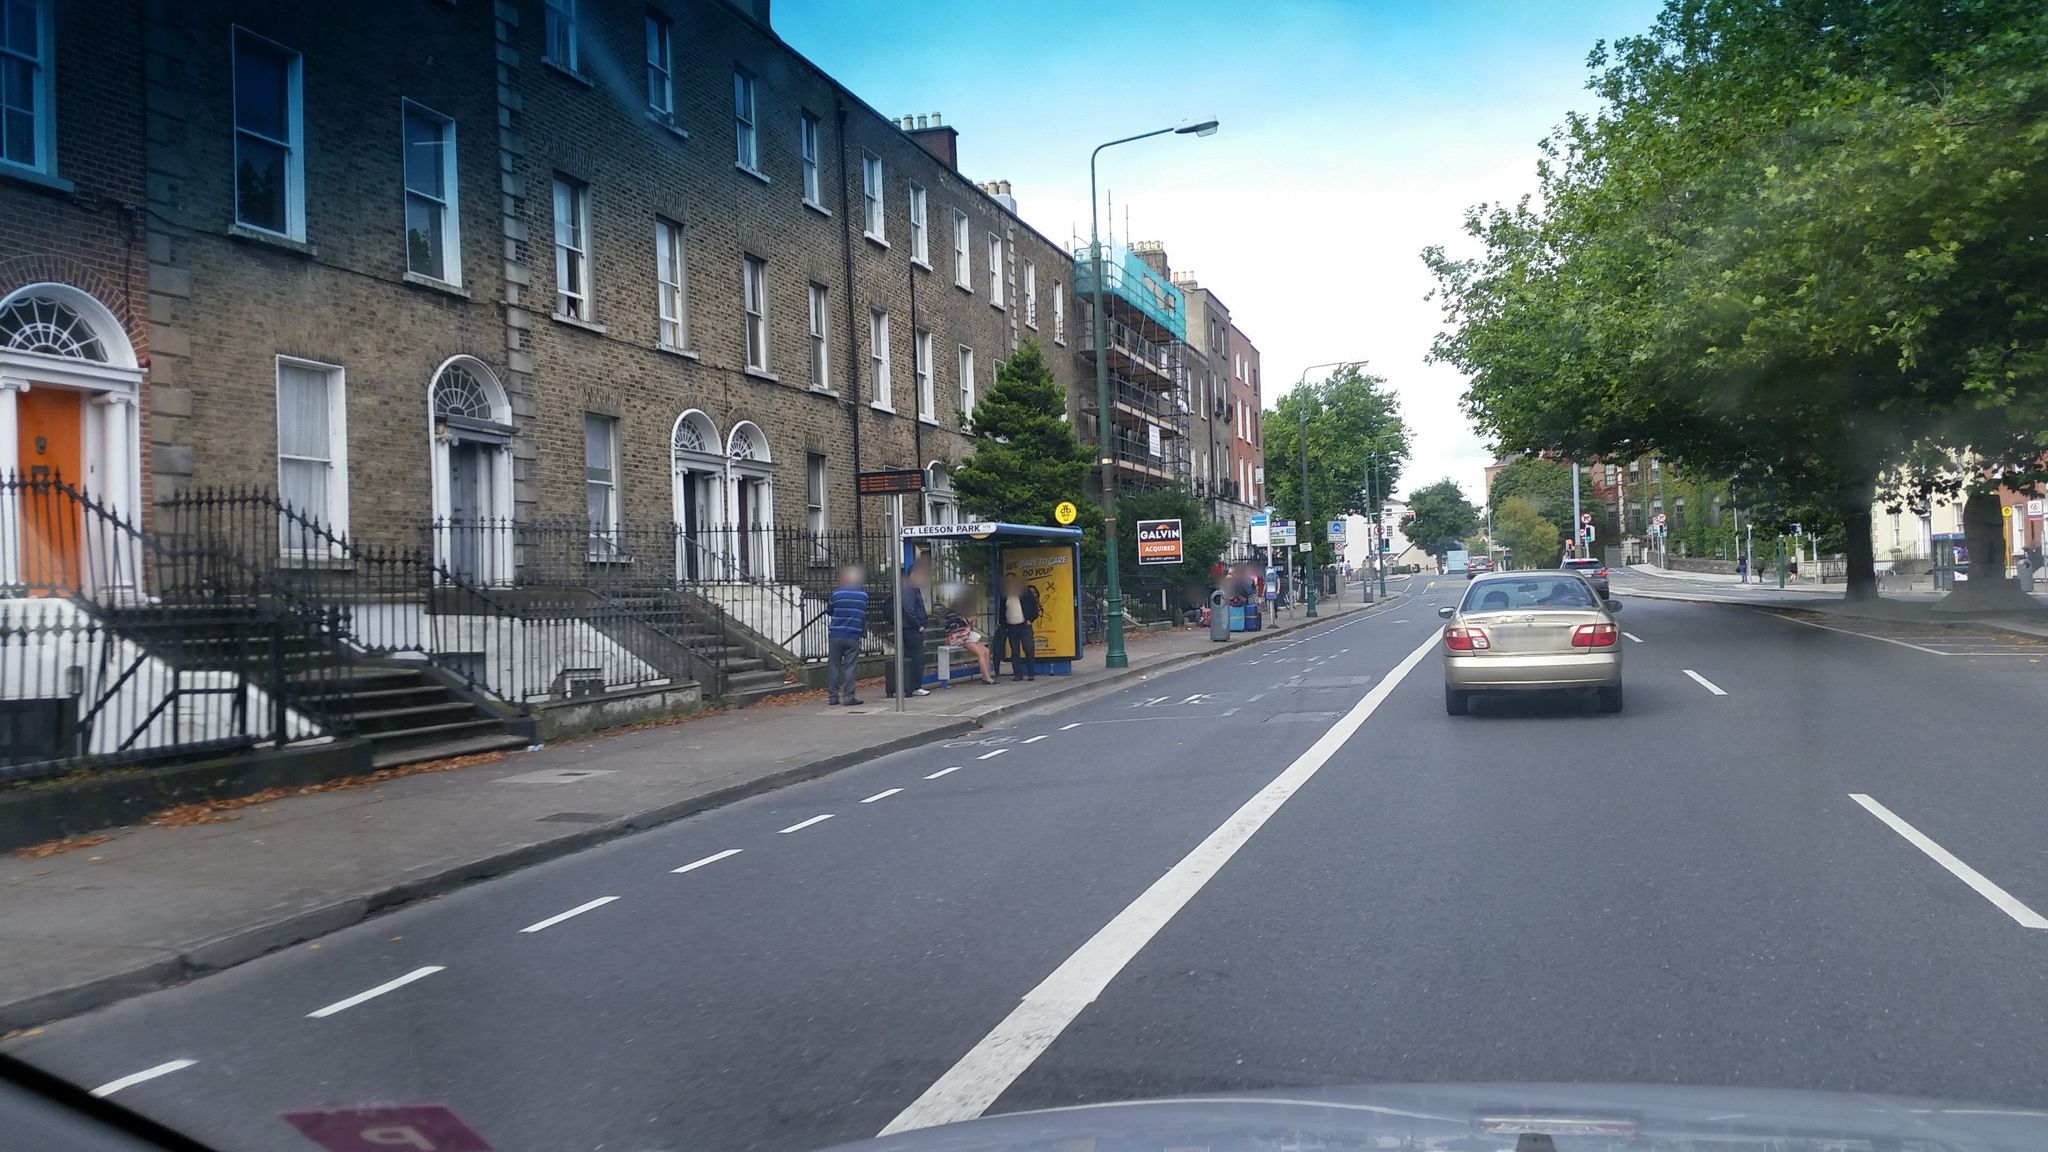property sign: (1122, 506, 1207, 577)
